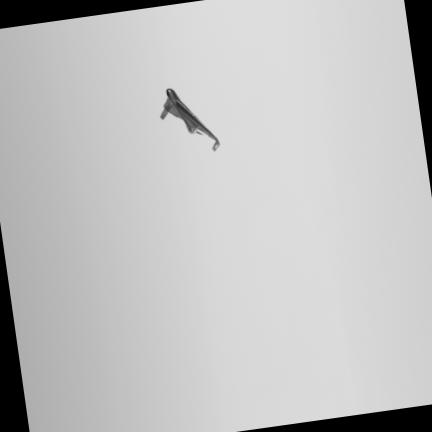Shahed: (160, 89, 218, 150)
